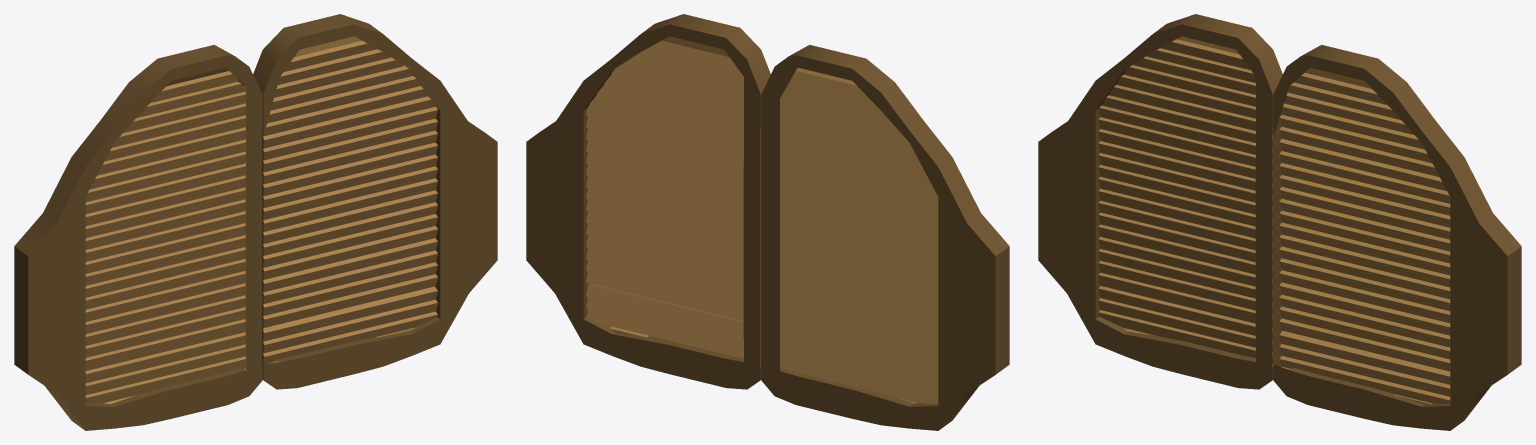
The model's file is porte.fbx.
The picture shows the model from 3 angles, left to right: view 1: azimuth 30°, elevation 25°; view 2: azimuth 150°, elevation 25°; view 3: azimuth 330°, elevation 25°; orthographic projection.
Parts seen in each view (by area): view 1: pCube1 (×2), pCube28 (×2), pCube22 (×2), pCube2 (×2), pCube24 (×2), pCube12 (×2), pCube8 (×2), pCube6 (×2), pCube4 (×2), pCube9 (×2), pCube21 (×2), pCube3 (×2) (+14 smaller); view 2: pCube1 (×2), pCube28 (×2), pCube24 (×2), pCube6 (×2), pCube23 (×2), pCube4 (×2), pCube27 (×2), pCube5 (×2), pCube22 (×2), pCube12 (×2), pCube8 (×2), pCube2 (×2) (+14 smaller); view 3: pCube1 (×2), pCube28 (×2), pCube22 (×2), pCube2 (×2), pCube24 (×2), pCube12 (×2), pCube6 (×2), pCube8 (×2), pCube4 (×2), pCube13 (×2), pCube3 (×2), pCube9 (×2) (+14 smaller).
Part boxes in pixels (<box>): pCube1 (×2): <box>14,14,497,430</box>; pCube28 (×2): <box>85,286,437,383</box>; pCube22 (×2): <box>85,274,437,370</box>; pCube2 (×2): <box>85,226,437,321</box>; pCube24 (×2): <box>85,238,437,333</box>; pCube12 (×2): <box>85,130,437,225</box>; pCube8 (×2): <box>85,178,437,273</box>; pCube6 (×2): <box>85,142,437,237</box>; pCube4 (×2): <box>85,190,437,285</box>; pCube9 (×2): <box>85,166,437,261</box>; pCube21 (×2): <box>85,262,437,357</box>; pCube3 (×2): <box>85,214,437,309</box>; pCube1 (×2): <box>526,14,1009,430</box>; pCube28 (×2): <box>586,284,938,383</box>; pCube24 (×2): <box>586,235,938,334</box>; pCube6 (×2): <box>586,140,938,238</box>; pCube23 (×2): <box>586,248,938,346</box>; pCube4 (×2): <box>586,187,938,286</box>; pCube27 (×2): <box>586,297,938,395</box>; pCube5 (×2): <box>586,199,938,298</box>; pCube22 (×2): <box>586,271,938,370</box>; pCube12 (×2): <box>586,128,938,226</box>; pCube8 (×2): <box>586,175,938,274</box>; pCube2 (×2): <box>586,223,938,321</box>; pCube1 (×2): <box>1038,14,1521,430</box>; pCube28 (×2): <box>1098,286,1450,384</box>; pCube22 (×2): <box>1098,272,1450,371</box>; pCube2 (×2): <box>1098,224,1450,323</box>; pCube24 (×2): <box>1098,237,1450,335</box>; pCube12 (×2): <box>1098,129,1450,227</box>; pCube6 (×2): <box>1098,141,1450,239</box>; pCube8 (×2): <box>1098,176,1450,275</box>; pCube4 (×2): <box>1098,188,1450,287</box>; pCube13 (×2): <box>1098,117,1450,215</box>; pCube3 (×2): <box>1098,212,1450,310</box>; pCube9 (×2): <box>1098,165,1450,263</box>.
Bounding box in the file's own units: 19.36 × 13.79 × 1.
